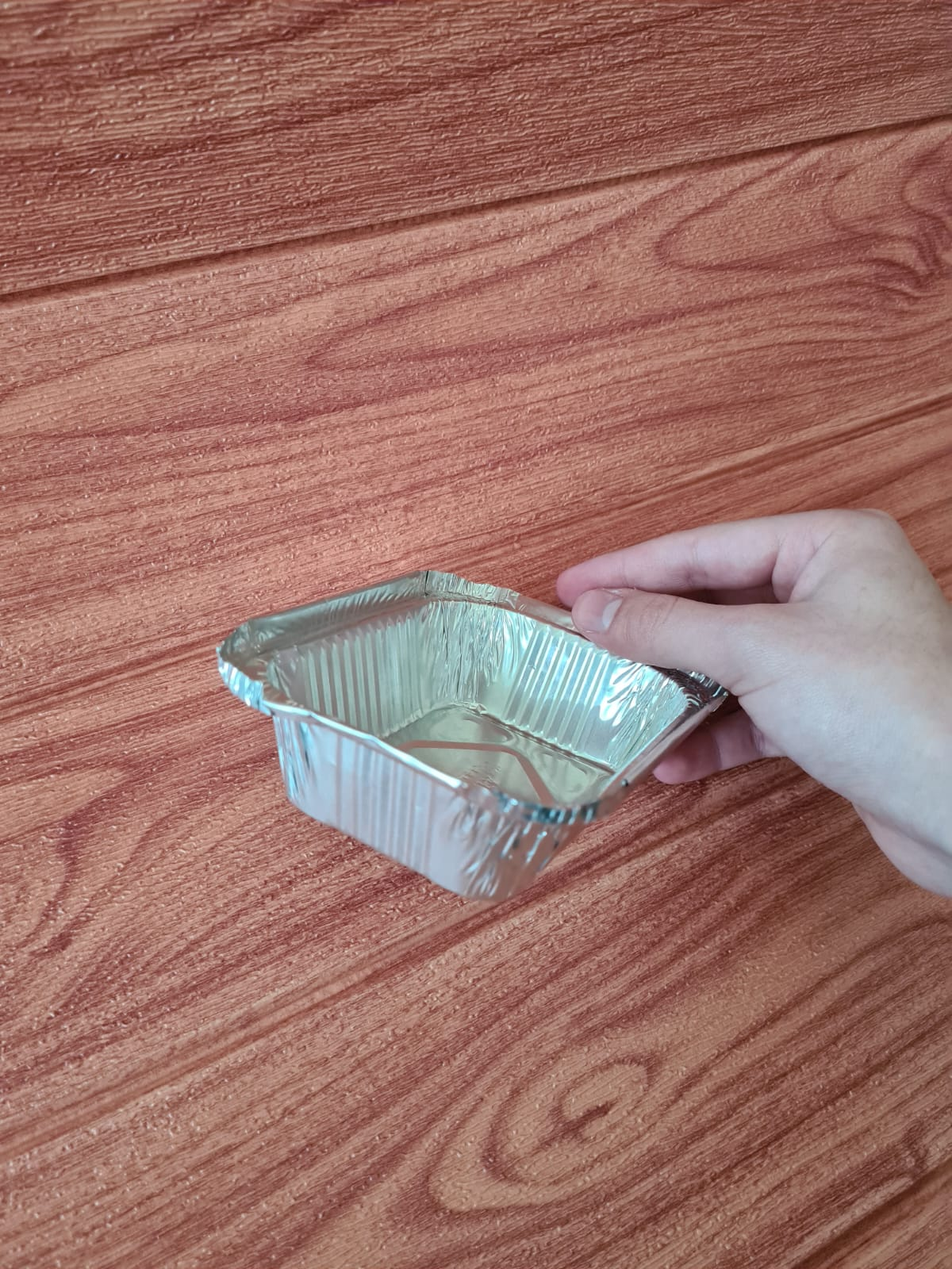Metal: (199, 574, 764, 894)
